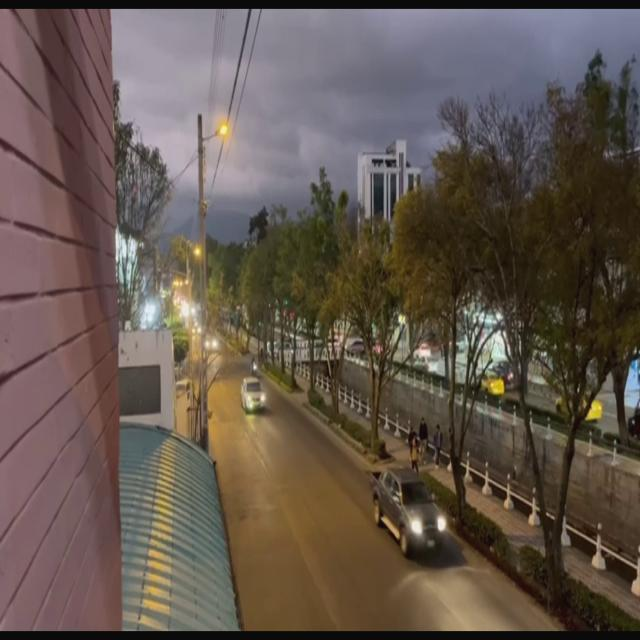CMT: (373, 469, 446, 551)
SUV: (242, 378, 264, 411)
